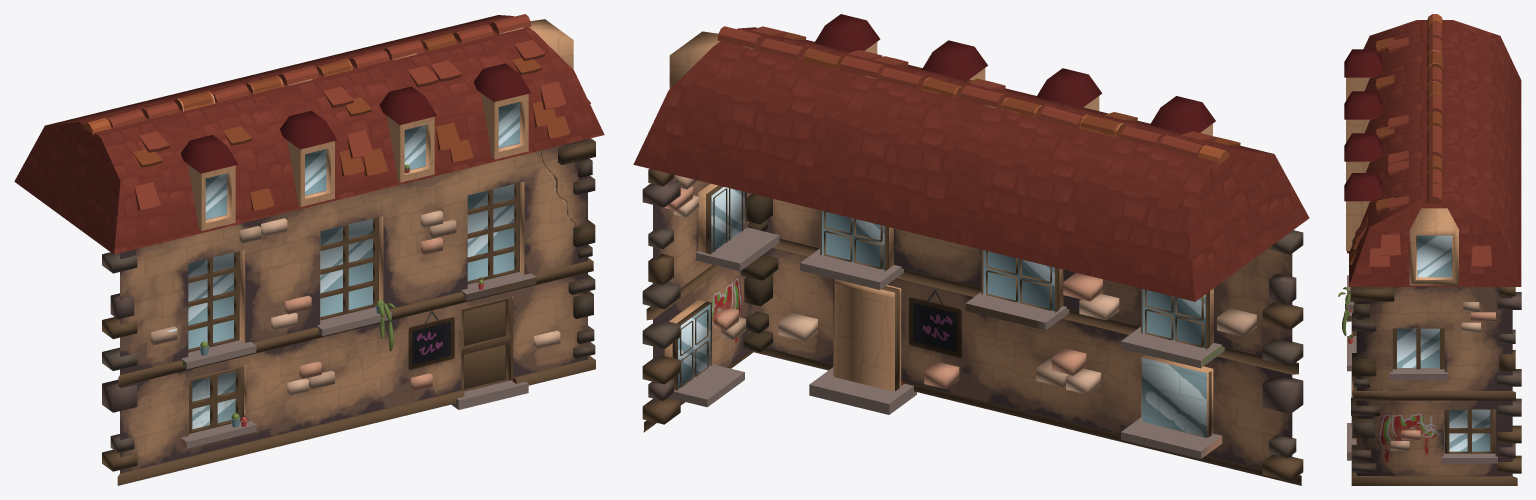
File: Casa_Test_Simetrica.fbx
The picture shows the model from 3 angles, left to right: view 1: azimuth 30°, elevation 25°; view 2: azimuth 150°, elevation 25°; view 3: azimuth 270°, elevation 25°; orthographic projection. The views are drawn at different scales.
Parts seen in each view (by area): view 1: Casa_Test_Simetrica; view 2: Casa_Test_Simetrica; view 3: Casa_Test_Simetrica.
Boxes of the visible parts, x1,y1,x2,y2 form: Casa_Test_Simetrica: (14,14,604,485); Casa_Test_Simetrica: (633,14,1309,485); Casa_Test_Simetrica: (1338,14,1521,485).
Bounding box in the file's own units: 11.71 × 7.44 × 4.35.
